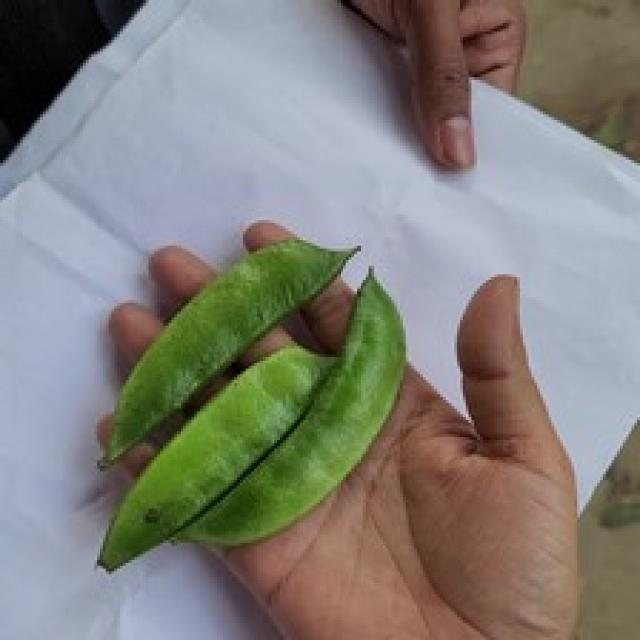Bean: (94, 234, 406, 572)
